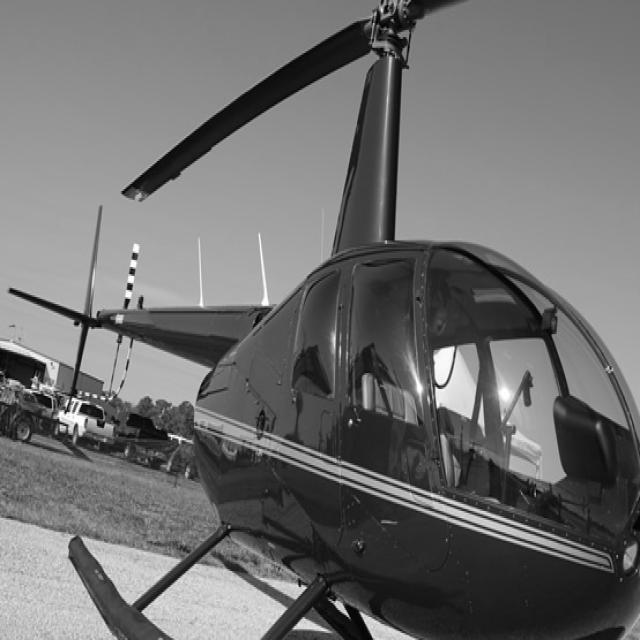helicopter: (13, 1, 640, 640)
